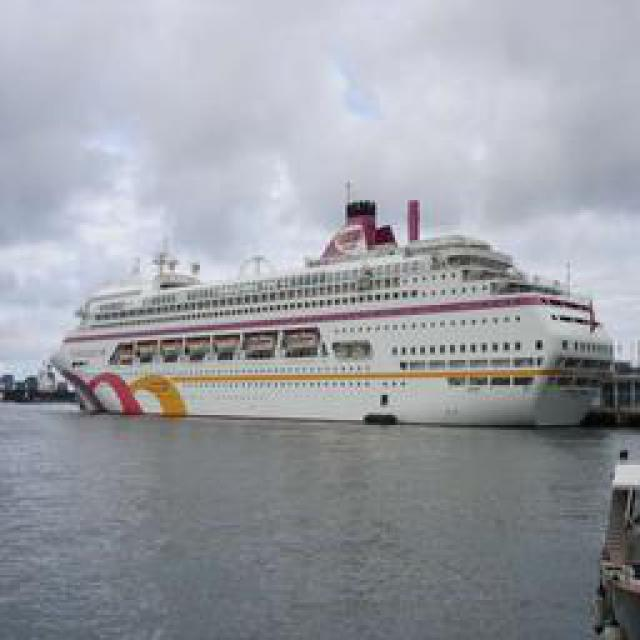Ship: (47, 190, 630, 420)
